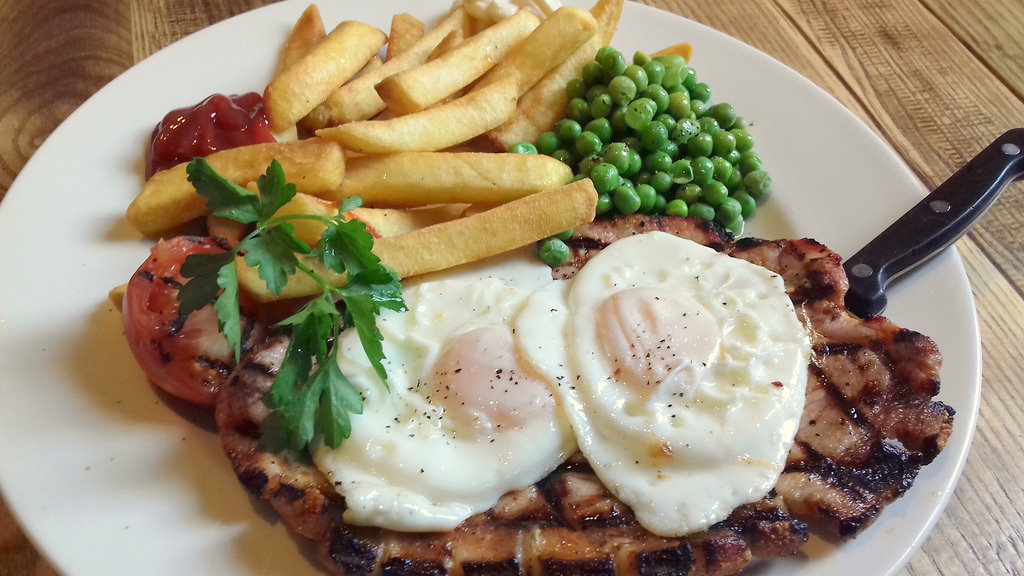boiled peas: (546, 53, 777, 228)
fried egg: (534, 257, 828, 532), (309, 292, 601, 523)
